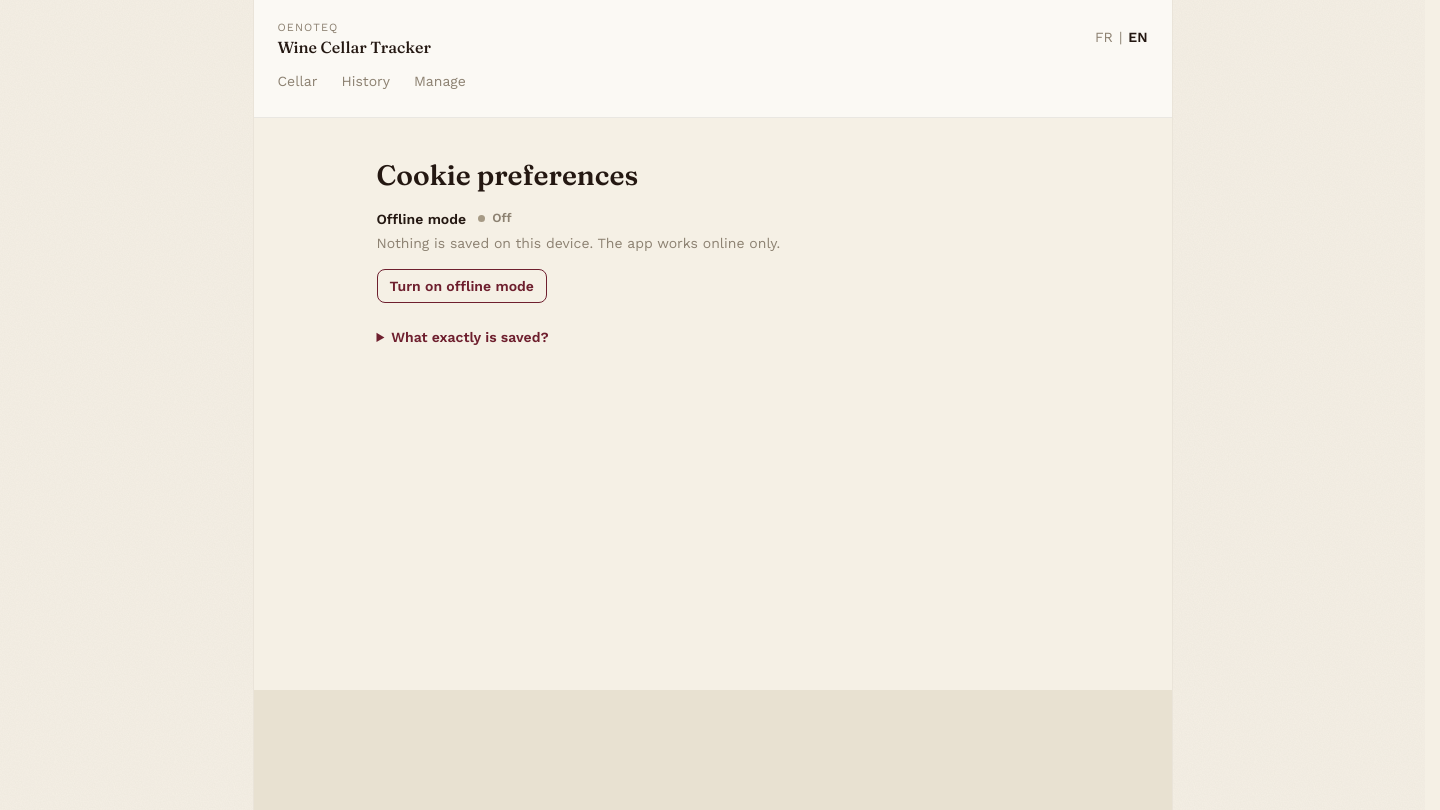
ConsentChangeView › granting later › records the choice, registers the service worker, runs the first pull with progress, then reloads here
The width and height of the screenshot is (1440, 810).
Click the button with test id "storage-grant": (462, 286) [376, 268, 547, 302]
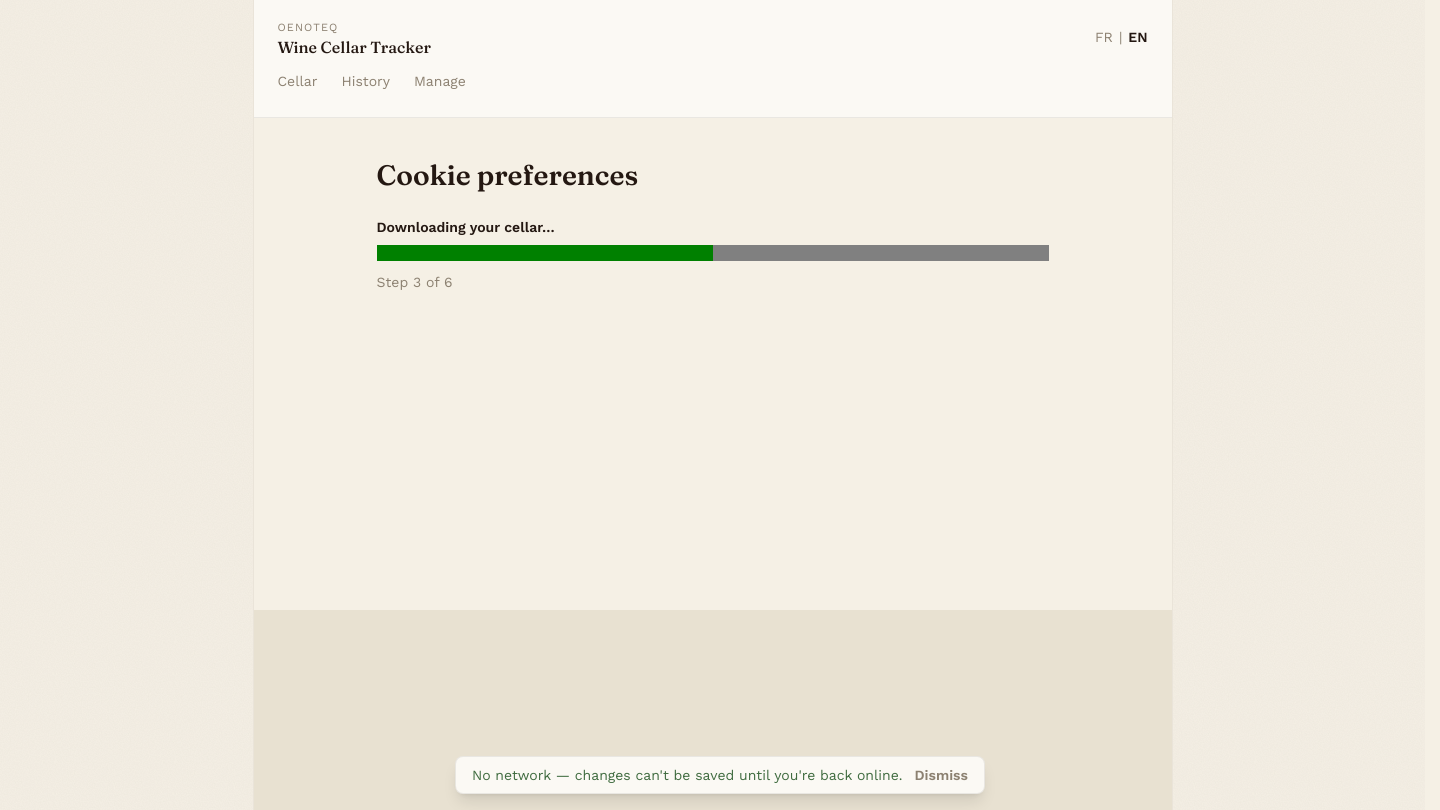
Check: the message with test id "consent-progress" shows "Step 3 of 6", box [376, 274, 452, 290]
